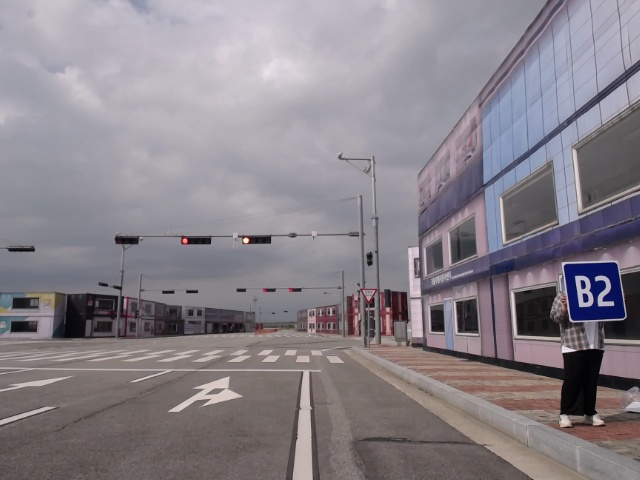delivery_b2: (562, 259, 626, 323)
red_4: (240, 234, 274, 246), (179, 235, 214, 245), (286, 286, 304, 294), (262, 287, 278, 294)
